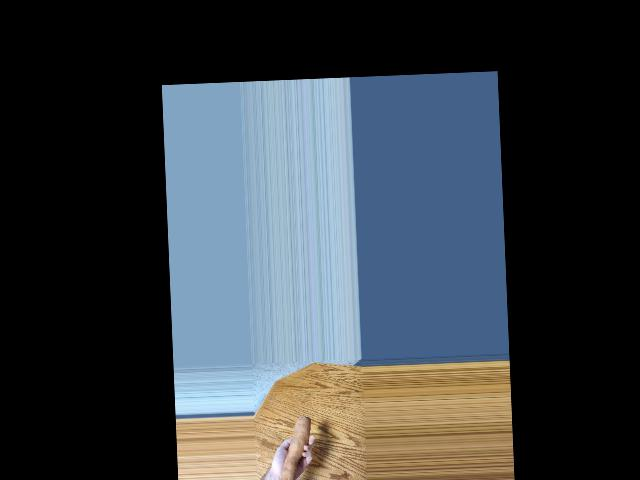sweet_potato: (273, 414, 315, 480)
